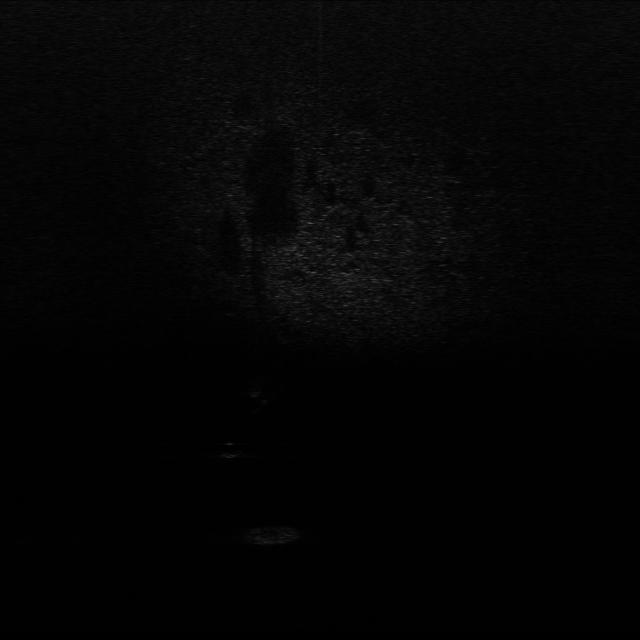ball: (216, 438, 244, 460)
circle cage: (243, 520, 308, 547)
human body: (247, 383, 281, 409)
